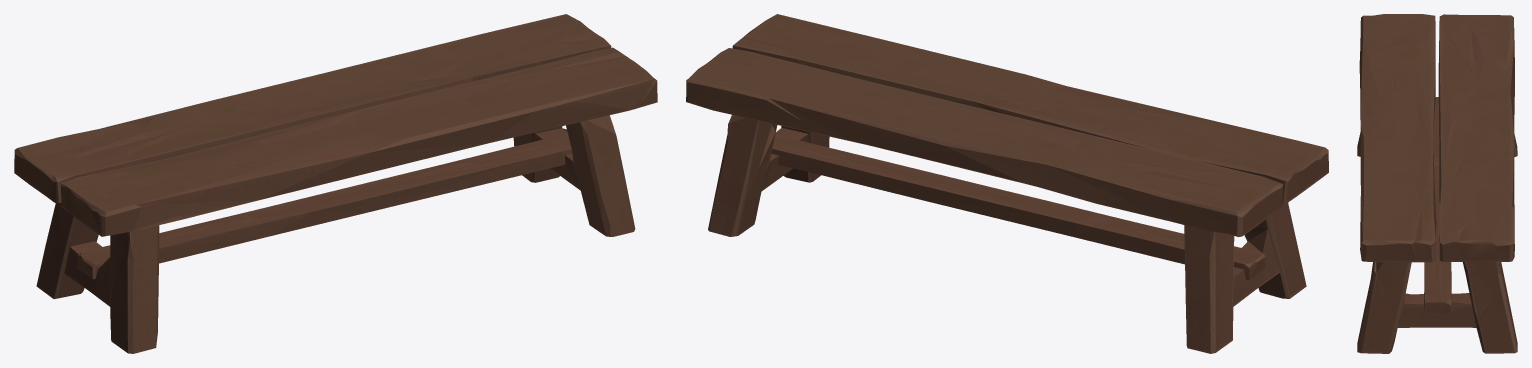
File: bench.glb
3 renders of one model, left to right at view 1: azimuth 30°, elevation 25°; view 2: azimuth 150°, elevation 25°; view 3: azimuth 270°, elevation 25°, orthographic. The views are drawn at different scales.
Bounding box in the file's own units: 1.9 × 0.4763 × 0.5653.
Materials: 1 (1 with a texture image).
